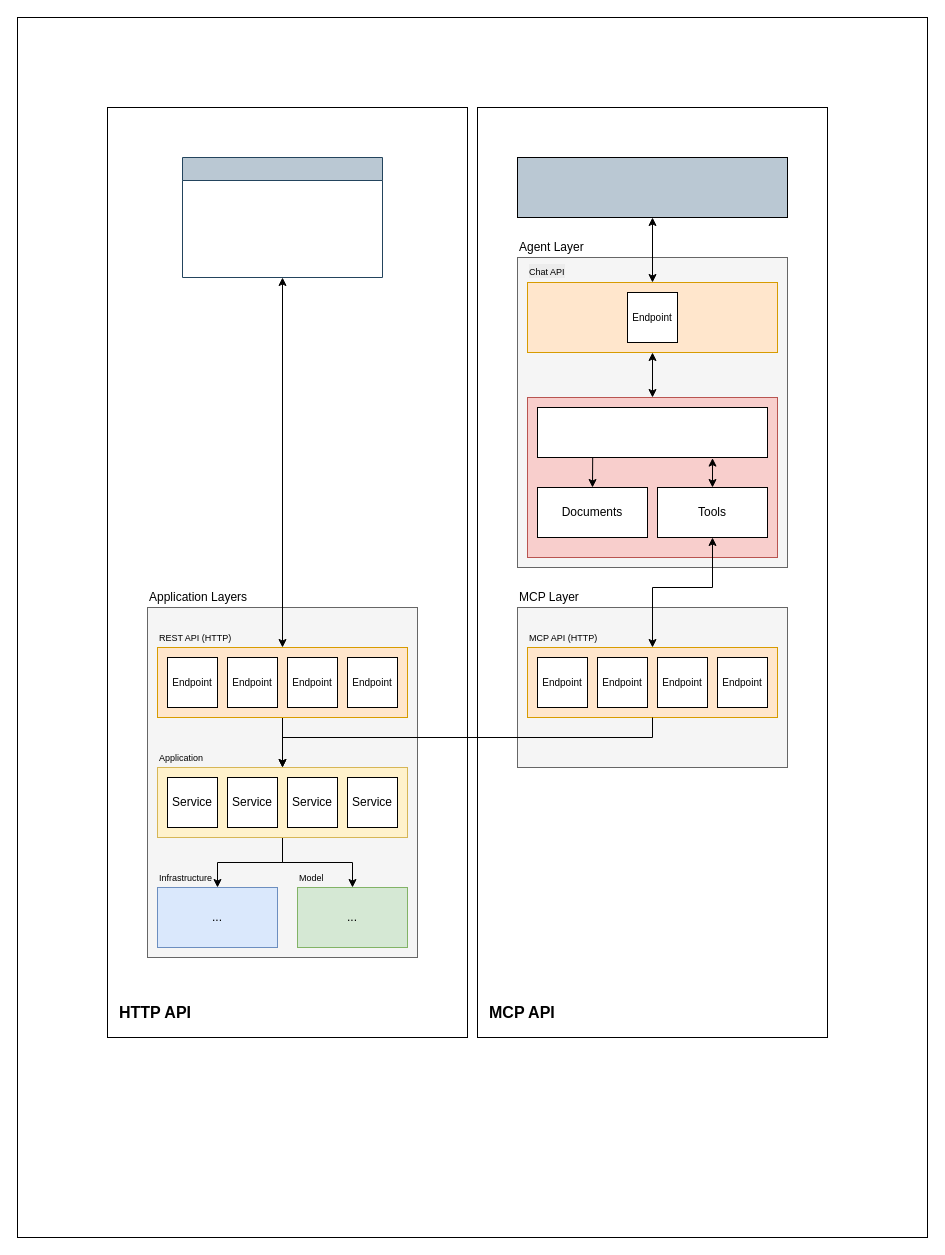
The diagram is 945 pixels wide and 1255 high, and some of its shapes have lost their labels. The centre of each missing label's shape, as x and y in pixels:
"AI Agent (LLM)" goes at (x=652, y=432).
"Application UI" goes at (x=282, y=217).
"Chat UI" goes at (x=652, y=187).
